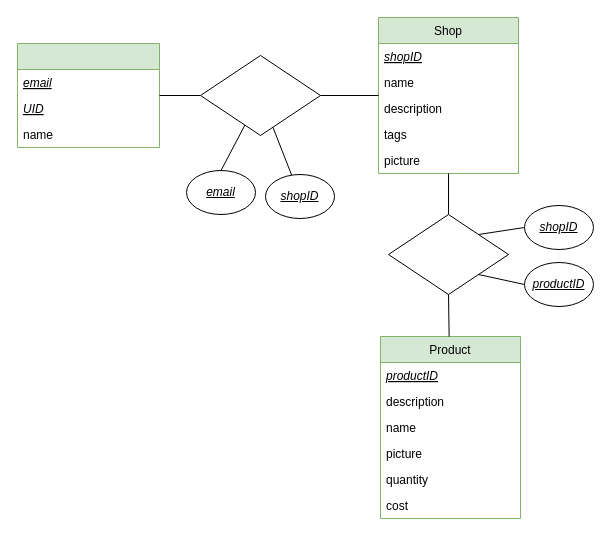
Image size: 611x539. Some labels were removed from this diagram. The box of each missing label's shape, as (x1, y1, x2, y2) in pixels:
contains: (388, 214, 508, 294)
owns: (200, 54, 320, 136)
User: (16, 42, 160, 148)
